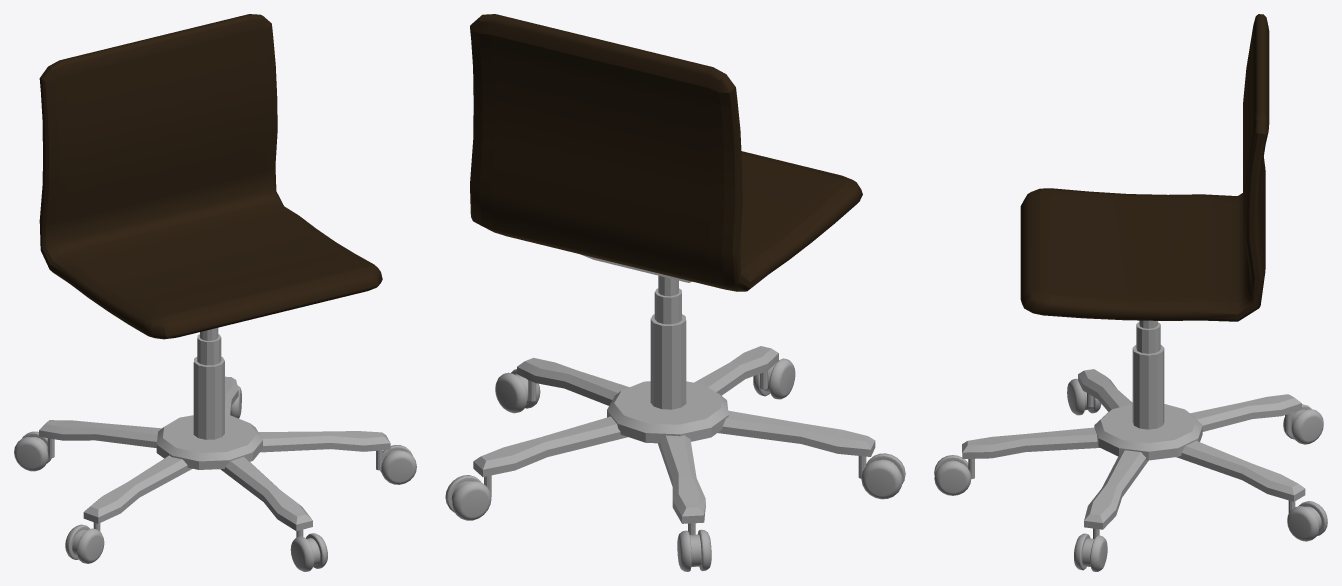
The model's file is SillaC_0.fbx.
The picture shows the model from 3 angles, left to right: view 1: azimuth 30°, elevation 25°; view 2: azimuth 150°, elevation 25°; view 3: azimuth 270°, elevation 25°; orthographic projection. The views are drawn at different scales.
Parts seen in each view (by area): view 1: SillaC_0; view 2: SillaC_0; view 3: SillaC_0.
Boxes of the visible parts, bbox=[...] form: SillaC_0: bbox=[14, 14, 416, 571]; SillaC_0: bbox=[445, 14, 905, 571]; SillaC_0: bbox=[934, 14, 1327, 571].
Bounding box in the file's own units: 0.8481 × 0.9739 × 0.8121.
